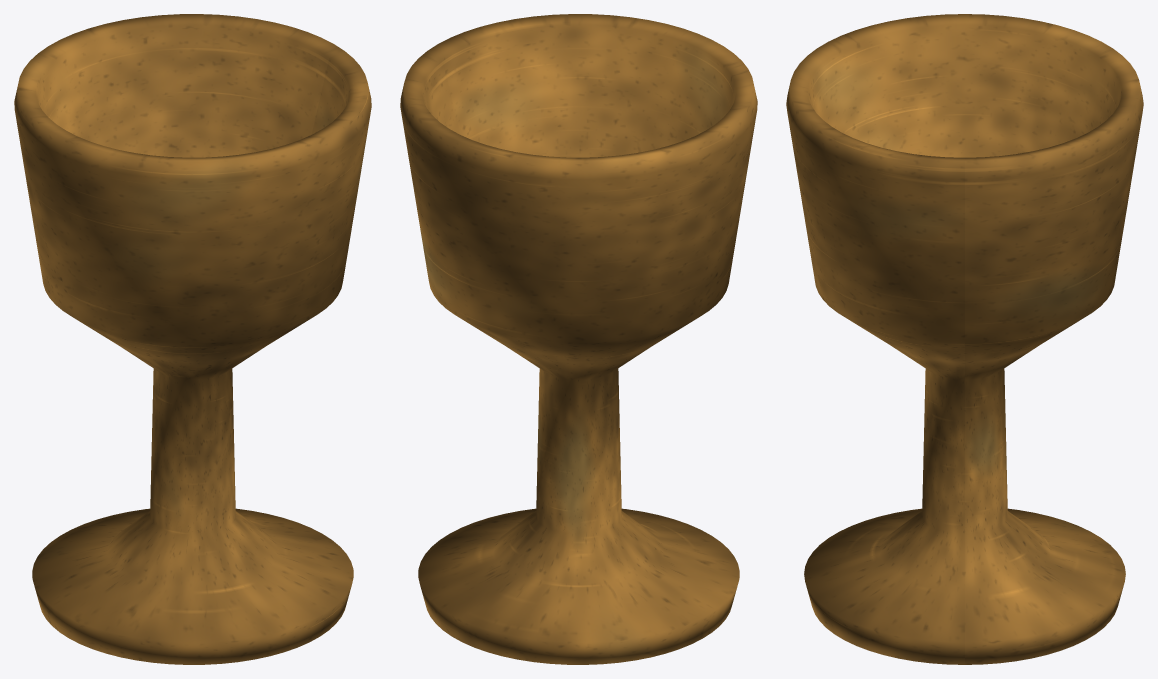
File: goblet_royal.glb
3 renders of one model, left to right at view 1: azimuth 30°, elevation 25°; view 2: azimuth 150°, elevation 25°; view 3: azimuth 270°, elevation 25°, orthographic.
Parts seen in each view (by area): view 1: brass; view 2: brass; view 3: brass.
Part boxes in pixels (x1,y1,x2,y2): brass: (14,14,371,664); brass: (400,14,757,664); brass: (786,14,1143,664).
Bounding box in the file's own units: 0.1 × 0.158 × 0.1.
1 material, 1 textured.
